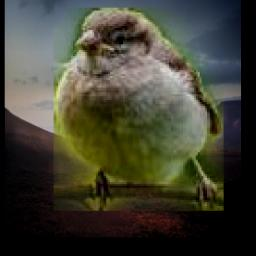Sparrow: (54, 9, 224, 212)
